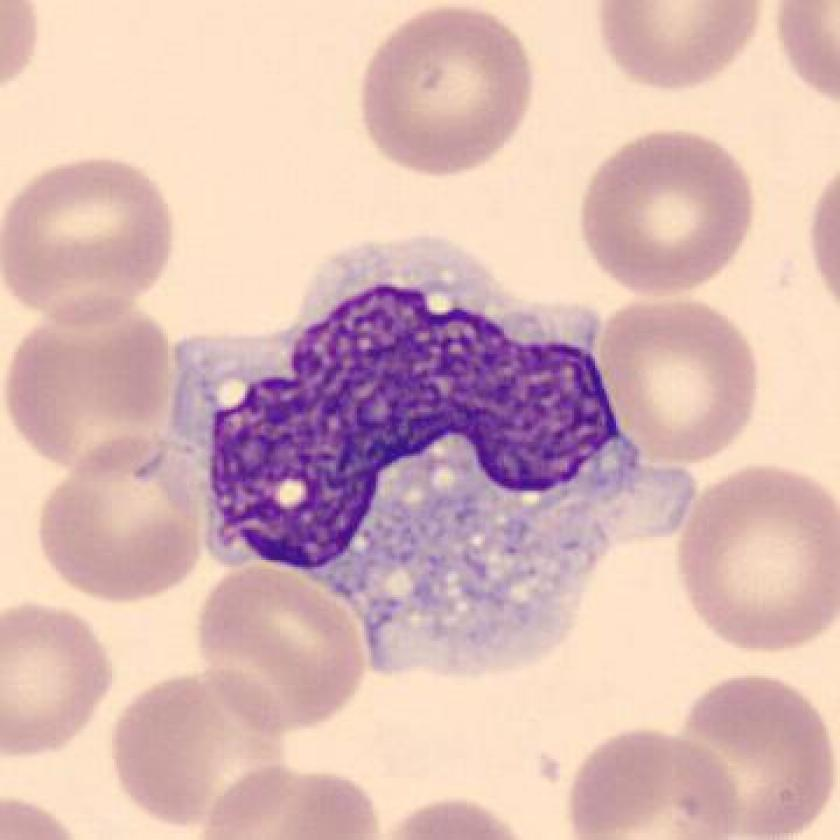monocyte: (148, 219, 706, 712)
